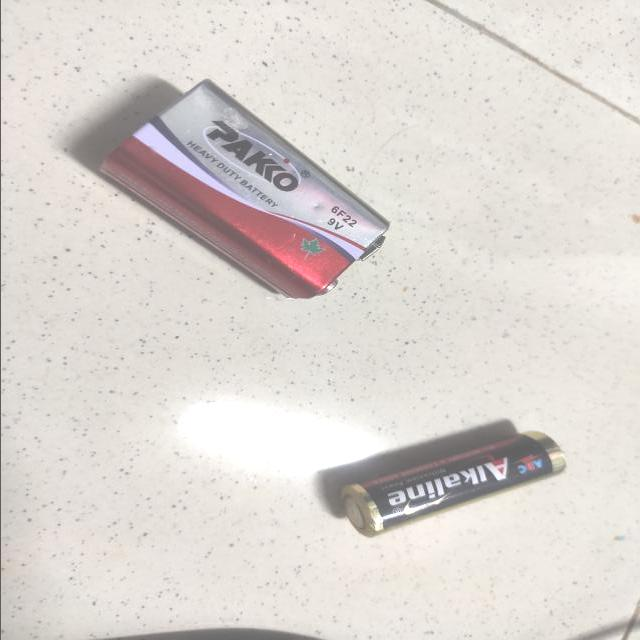9V: (86, 74, 406, 313)
AA: (324, 422, 582, 544)
